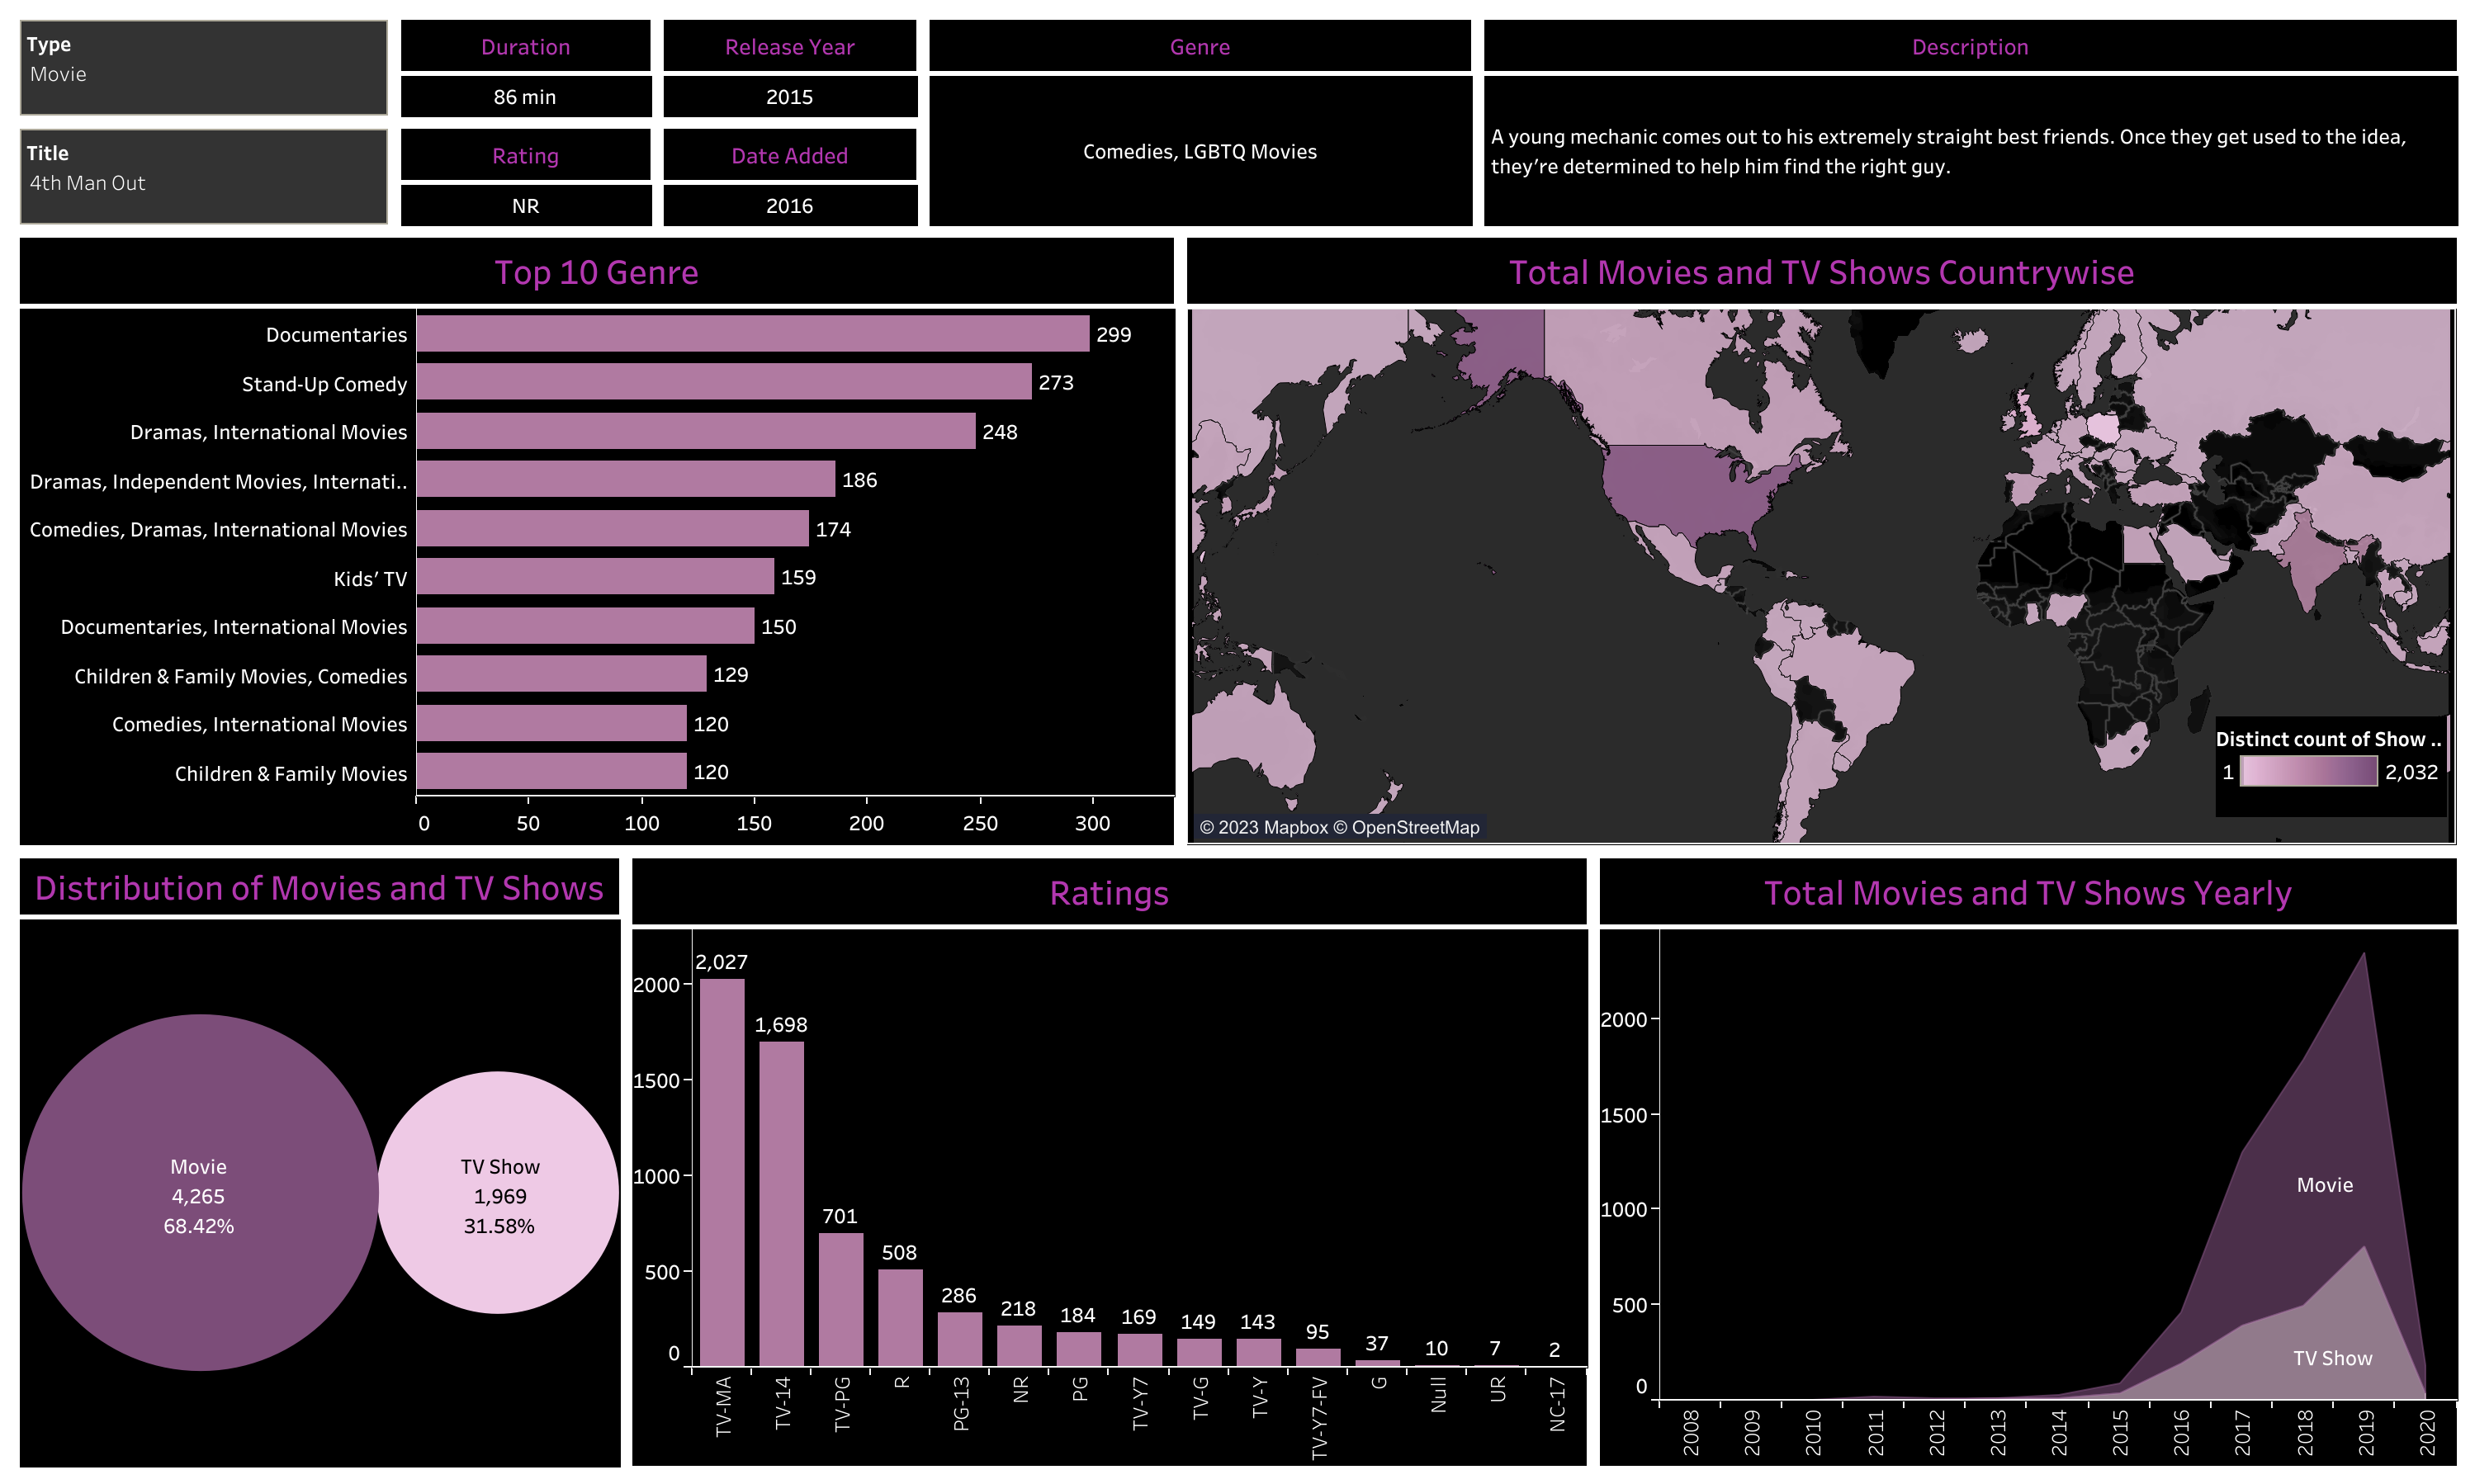

This screenshot's page, from the dashboard's own definition file:
{"tool":"tableau","page":{"name":"Netflix Shows Details","canvas":[1500,900],"ordinal":0},"visuals":[{"type":"filter","title":"Description","param":"[federated.15t8t860mfyt5x1go3hb41jbhuz8].[none:type:nk]","box":[8,8,230.9,66]},{"type":"worksheet","title":"Duration","mark":"Automatic","box":[238.9,8,159.2,66]},{"type":"worksheet","title":"Release Year","mark":"Automatic","box":[398,8,161.4,66]},{"type":"worksheet","title":"Genre","mark":"Automatic","box":[559.4,8,335.1,132]},{"type":"worksheet","title":"Description","mark":"Automatic","box":[894.6,8,597.4,132]},{"type":"filter","title":"Description","param":"[federated.15t8t860mfyt5x1go3hb41jbhuz8].[none:title:nk]","box":[8,74,230.9,66]},{"type":"worksheet","title":"Rating","mark":"Automatic","box":[238.9,74,159.2,66]},{"type":"worksheet","title":"Date Added","mark":"Automatic","box":[398,74,161.4,66]},{"type":"worksheet","title":"Top 10 Genre","mark":"Automatic","rows":["listed_in"],"cols":["show_id"],"box":[8,140,707,376]},{"type":"worksheet","title":"Total Movies and TV Shows Countrywise","mark":"Multipolygon","box":[715,140,777,376]},{"type":"legend","title":"Total Movies and TV Shows Countrywise","param":"[federated.15t8t860mfyt5x1go3hb41jbhuz8].[ctd:show_id:qk]","box":[1342,434,140,76]},{"type":"worksheet","title":"Distribution of Movies and TV Shows","mark":"Circle","box":[8,516,371,376]},{"type":"worksheet","title":"Ratings","mark":"Automatic","rows":["show_id"],"cols":["rating"],"box":[379,516,586,376]},{"type":"worksheet","title":"Total Movies and TV Shows Yearly","mark":"Area","rows":["show_id"],"cols":["date_added"],"box":[965,516,527,376]}]}

Visuals, with their boxes in screenshot pixels (x1, y1, x2, y2), scaled from the page's 1500x900 canvas onto the 2475x1484 screenshot:
"Description" filter: <bbox>13, 13, 394, 122</bbox>
"Duration" worksheet: <bbox>394, 13, 657, 122</bbox>
"Release Year" worksheet: <bbox>656, 13, 923, 122</bbox>
"Genre" worksheet: <bbox>923, 13, 1476, 231</bbox>
"Description" worksheet: <bbox>1476, 13, 2462, 231</bbox>
"Description" filter: <bbox>13, 122, 394, 231</bbox>
"Rating" worksheet: <bbox>394, 122, 657, 231</bbox>
"Date Added" worksheet: <bbox>656, 122, 923, 231</bbox>
"Top 10 Genre" worksheet: <bbox>13, 231, 1180, 851</bbox>
"Total Movies and TV Shows Countrywise" worksheet (Multipolygon marks): <bbox>1180, 231, 2462, 851</bbox>
"Total Movies and TV Shows Countrywise" legend: <bbox>2214, 716, 2445, 841</bbox>
"Distribution of Movies and TV Shows" worksheet (Circle marks): <bbox>13, 851, 625, 1471</bbox>
"Ratings" worksheet: <bbox>625, 851, 1592, 1471</bbox>
"Total Movies and TV Shows Yearly" worksheet (Area marks): <bbox>1592, 851, 2462, 1471</bbox>
